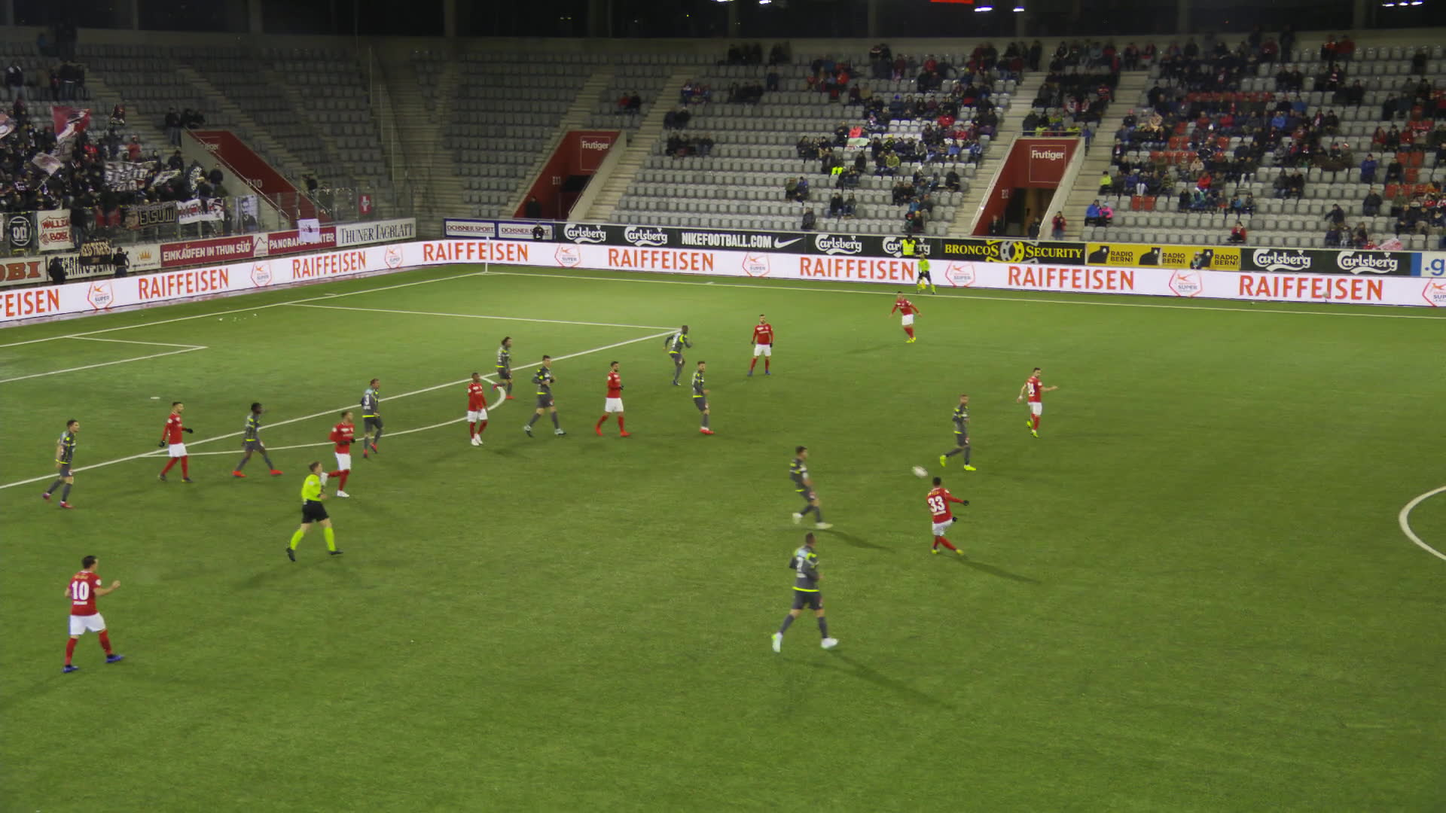ball: (923, 473, 931, 485)
player: (61, 553, 123, 671), (771, 533, 829, 656), (232, 396, 279, 476), (315, 407, 355, 497), (37, 421, 78, 507), (156, 400, 196, 485), (926, 477, 969, 556), (935, 391, 978, 468), (524, 355, 563, 437), (782, 446, 819, 528), (594, 360, 630, 435), (1020, 369, 1057, 436), (356, 379, 384, 457), (689, 359, 714, 434), (743, 315, 773, 376), (889, 290, 923, 343), (490, 335, 517, 400), (665, 324, 693, 385), (466, 371, 487, 446)
referee: (284, 461, 337, 561), (917, 251, 936, 294)
